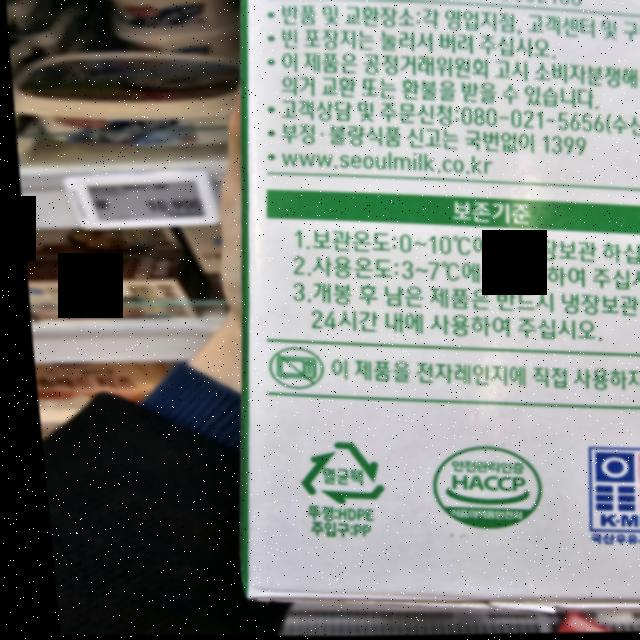SterilizedPack: (283, 437, 377, 507)
